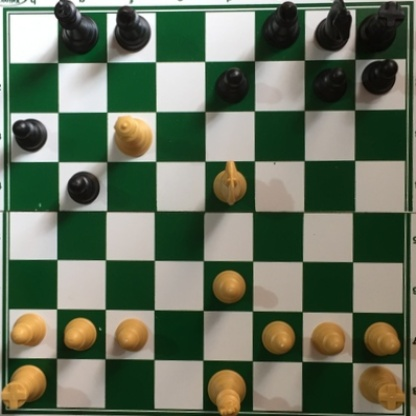black-bishop: (261, 1, 301, 53), (113, 4, 153, 54)
black-king: (52, 1, 101, 57)
black-knight: (314, 1, 353, 54)
black-pawn: (359, 56, 400, 96), (310, 66, 347, 105), (11, 117, 49, 153), (213, 68, 249, 106), (66, 170, 101, 206)
black-rook: (354, 1, 406, 54)
white-king: (204, 368, 247, 416)
white-knight: (211, 157, 249, 206)
white-pawn: (358, 320, 401, 360), (308, 318, 347, 359), (60, 314, 99, 355), (9, 308, 48, 348), (111, 316, 151, 353), (258, 320, 297, 357), (209, 270, 247, 305)
white-queen: (111, 112, 153, 158)
white-rook: (355, 361, 405, 412), (1, 362, 49, 411)
